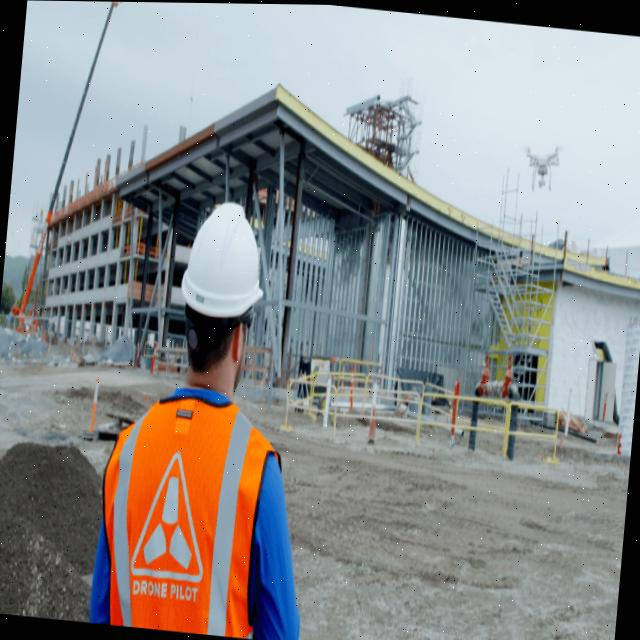drone: (518, 134, 564, 194)
